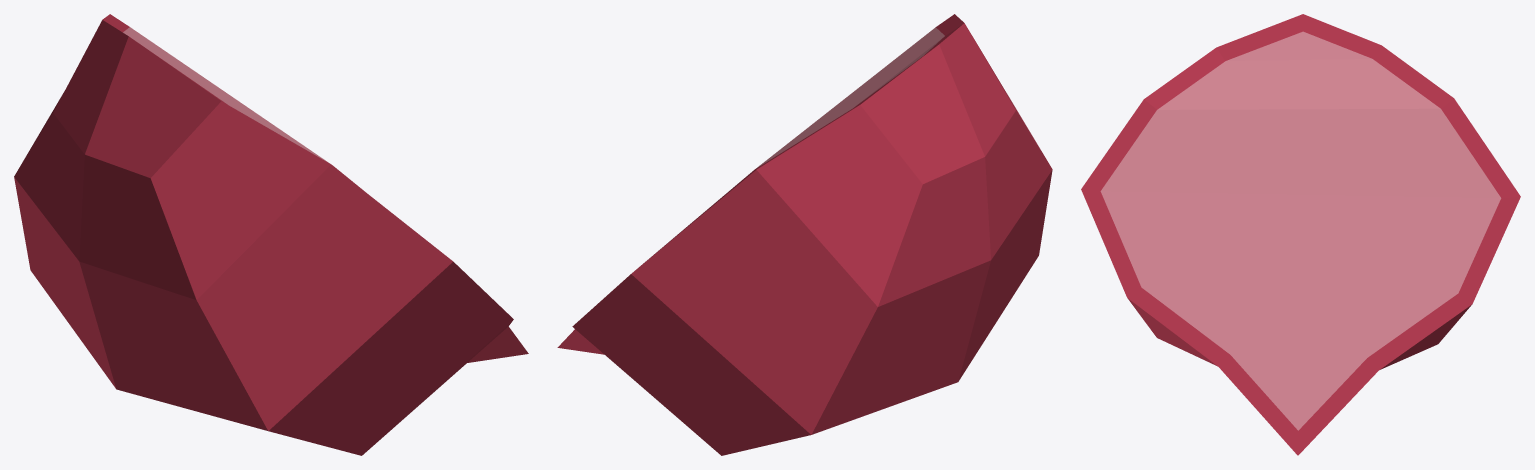
File: onionRedHalf.fbx
The picture shows the model from 3 angles, left to right: view 1: azimuth 30°, elevation 25°; view 2: azimuth 150°, elevation 25°; view 3: azimuth 270°, elevation 25°; orthographic projection. The views are drawn at different scales.
Parts seen in each view (by area): view 1: onionRedHalf; view 2: onionRedHalf; view 3: onionRedHalf.
Boxes of the visible parts, x1,y1,x2,y2 form: onionRedHalf: [14, 14, 528, 455]; onionRedHalf: [557, 14, 1052, 455]; onionRedHalf: [1081, 14, 1520, 455].
Bounding box in the file's own units: 6.15 × 5.41 × 7.17.
1 material, 1 textured.
